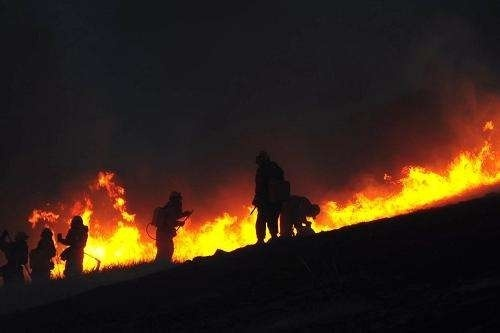fire: (13, 138, 474, 278)
